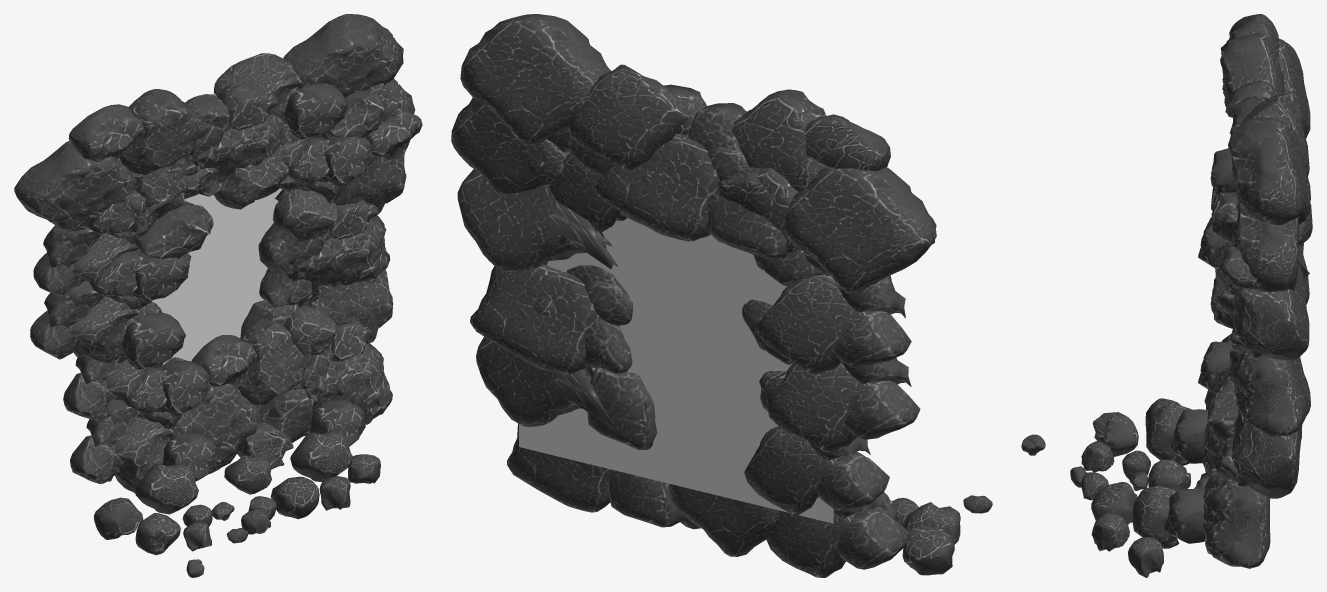
File: cave_collapse_wHole.fbx
3 renders of one model, left to right at view 1: azimuth 30°, elevation 25°; view 2: azimuth 150°, elevation 25°; view 3: azimuth 270°, elevation 25°, orthographic. The views are drawn at different scales.
Parts seen in each view (by area): view 1: cave_collapse_wHole; view 2: cave_collapse_wHole; view 3: cave_collapse_wHole.
Part boxes in pixels (x1,y1,x2,y2): cave_collapse_wHole: [14, 14, 422, 577]; cave_collapse_wHole: [451, 14, 992, 577]; cave_collapse_wHole: [1021, 14, 1312, 577].
Size of the model in its own units: 349 by 362 by 200.
2 materials, 1 textured.
